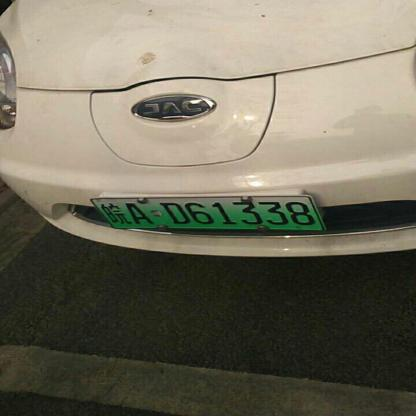lp: (92, 197, 323, 230)
